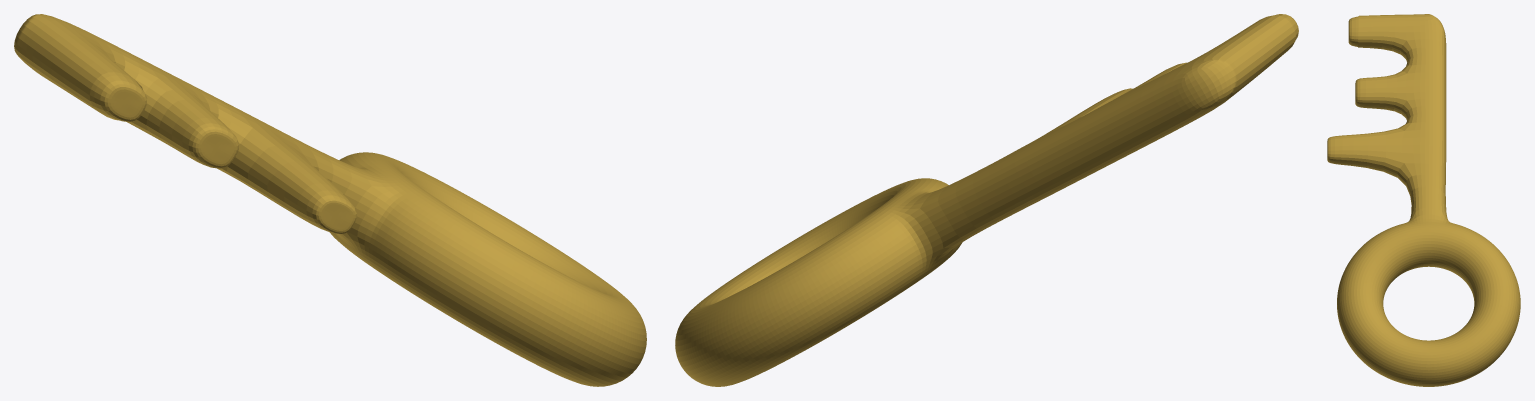
The model's file is key.fbx.
3 views of the same model, side by side, from view 1: azimuth 30°, elevation 25°; view 2: azimuth 150°, elevation 25°; view 3: azimuth 270°, elevation 25° (orthographic). The views are drawn at different scales.
Visible parts, largest first — view 1: Key; view 2: Key; view 3: Key.
Part boxes in pixels (x1,y1,x2,y2): Key: (14,14,646,386); Key: (675,14,1298,386); Key: (1327,14,1520,386).
Bounding box in the file's own units: 504 × 381 × 281.
